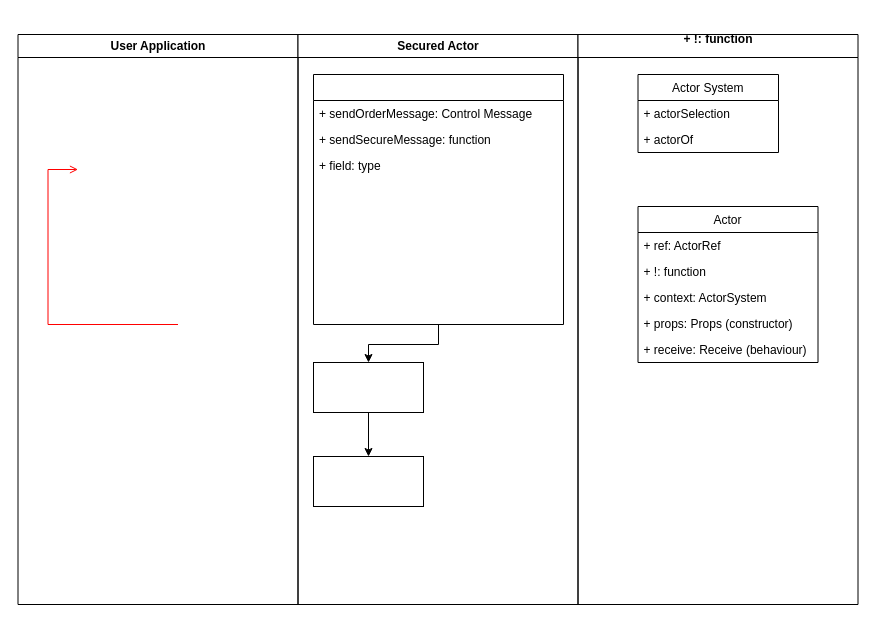
Image size: 875x622. Some labels were removed from this diagram. The box of each missing label's shape, as (x1, y1, x2, y2) in pixels:
AutomataObject: (312, 456, 424, 506)
SecureActor: (312, 74, 564, 324)
SecureActorObject: (312, 362, 424, 412)
